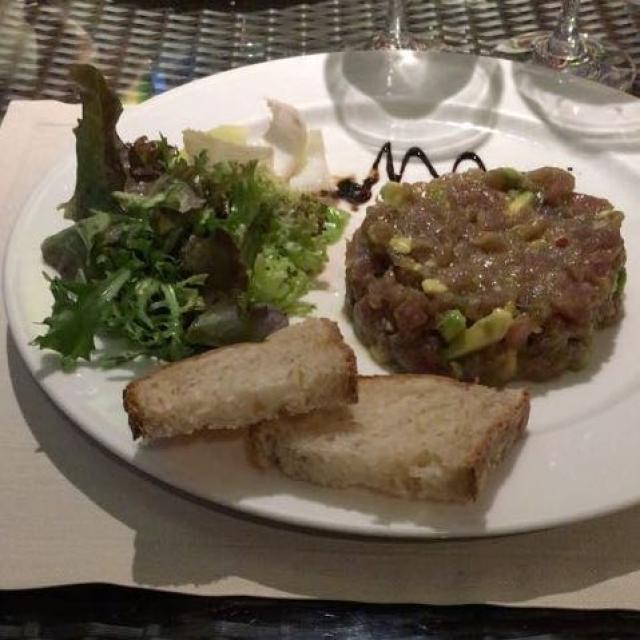bread: (97, 314, 535, 493)
salad: (34, 90, 354, 400)
tartar-meat: (342, 166, 625, 394)
